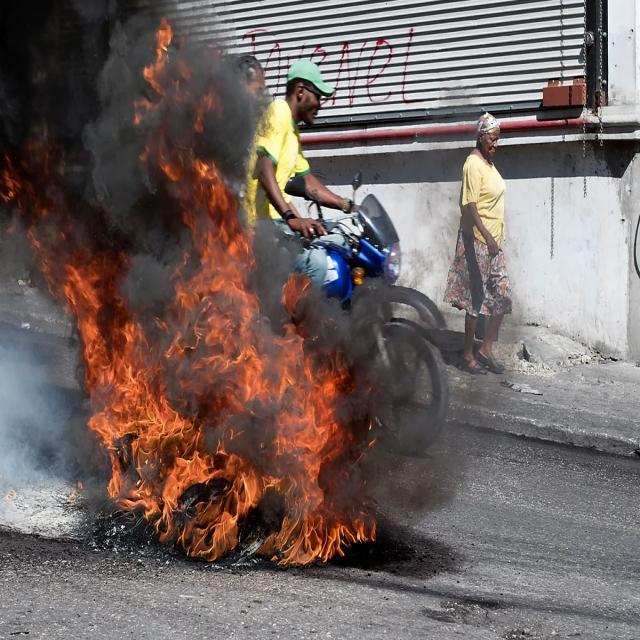Fire: (9, 21, 382, 566)
Smoke: (0, 0, 439, 507)
